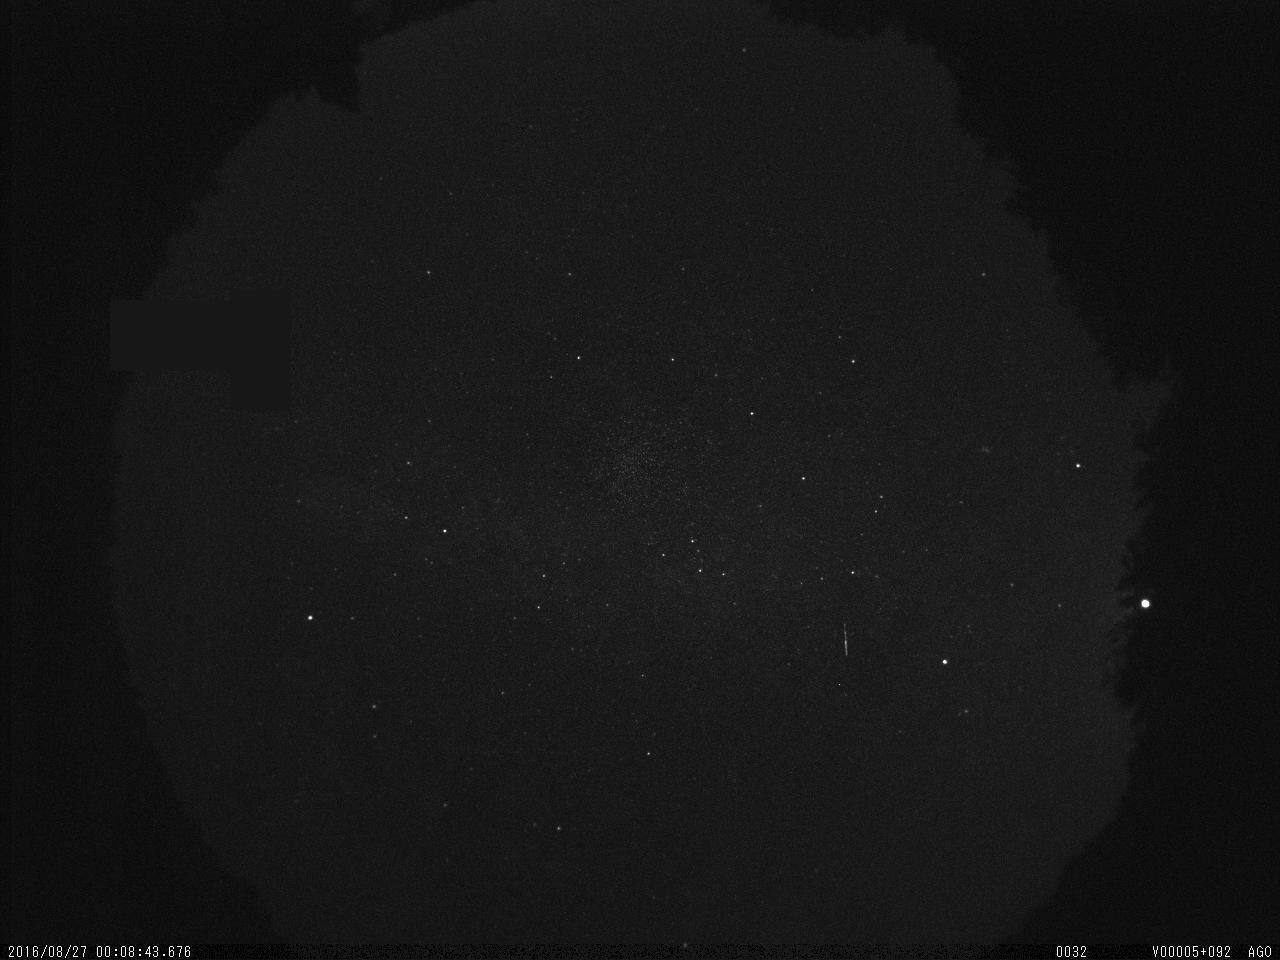meteor: (838, 612, 857, 661)
